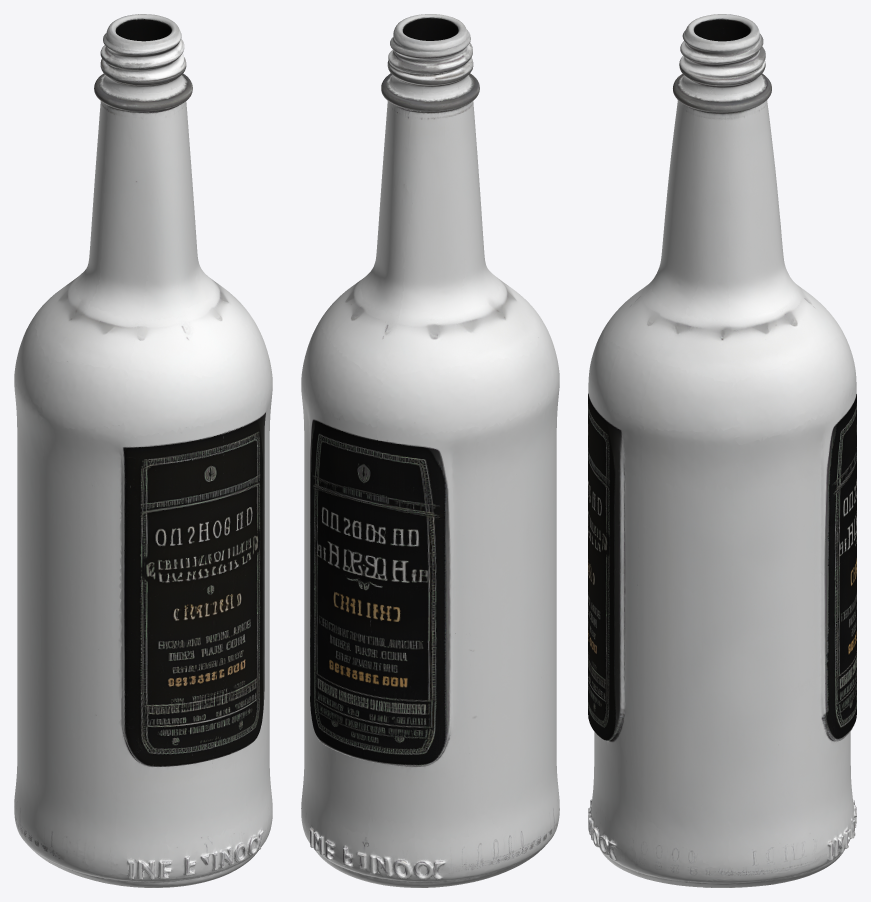
File: Glass_Bottle.glb
3 renders of one model, left to right at view 1: azimuth 30°, elevation 25°; view 2: azimuth 150°, elevation 25°; view 3: azimuth 270°, elevation 25°, orthographic.
Bounding box in the file's own units: 0.5434 × 1.9 × 0.5667.
Materials: 1 (1 with a texture image).
